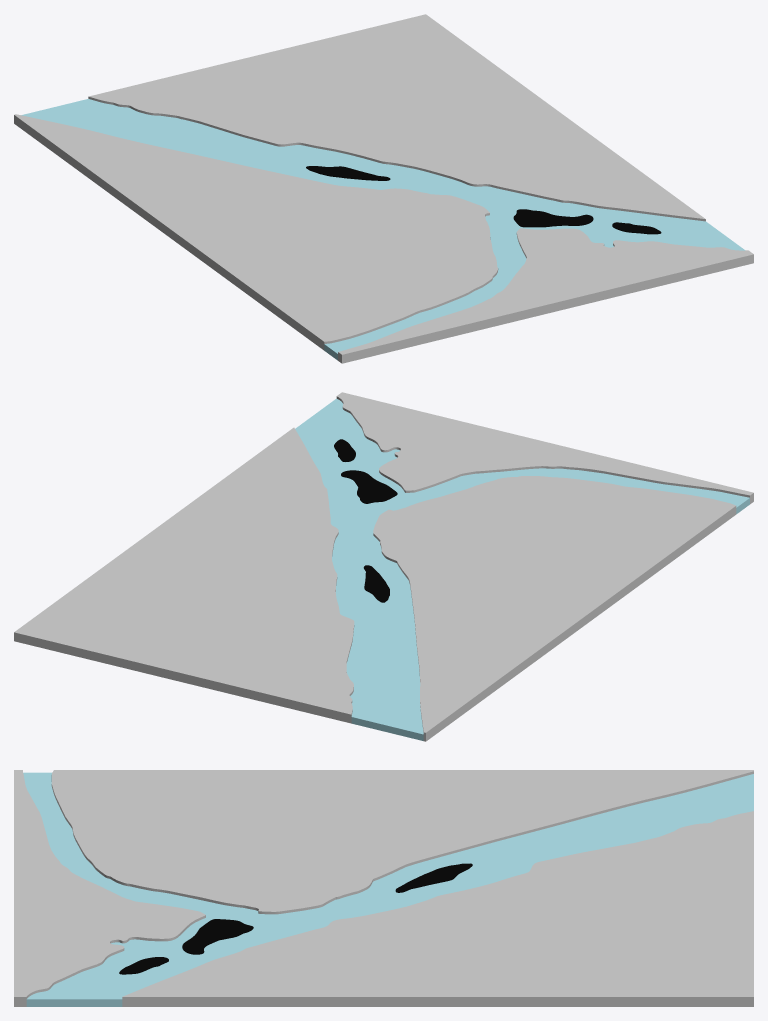
The model's file is river_uv.fbx.
3 renders of one model, top to bottom at view 1: azimuth 30°, elevation 25°; view 2: azimuth 150°, elevation 25°; view 3: azimuth 270°, elevation 25°, orthographic. The views are drawn at different scales.
Visible parts, largest first — view 1: land03, land01, water, land02, island02, island01; view 2: land03, land01, water, land02, island02, island01; view 3: land03, land01, water, land02, island02, island01, island03.
Part boxes in pixels (x1=…): land03: x1=88, y1=14, x2=705, y2=221; land01: x1=14, y1=114, x2=498, y2=350; water: x1=21, y1=99, x2=745, y2=360; land02: x1=338, y1=228, x2=753, y2=363; island02: x1=513, y1=209, x2=593, y2=227; island01: x1=306, y1=166, x2=390, y2=180; land03: x1=14, y1=427, x2=354, y2=723; land01: x1=373, y1=476, x2=736, y2=741; water: x1=295, y1=398, x2=749, y2=740; land02: x1=336, y1=392, x2=753, y2=504; island02: x1=341, y1=470, x2=397, y2=503; island01: x1=363, y1=565, x2=389, y2=602; land03: x1=122, y1=811, x2=753, y2=1006; land01: x1=51, y1=770, x2=753, y2=914; water: x1=23, y1=772, x2=753, y2=1006; land02: x1=14, y1=770, x2=205, y2=1006; island02: x1=182, y1=919, x2=253, y2=954; island01: x1=395, y1=863, x2=472, y2=892; island03: x1=119, y1=957, x2=168, y2=974.
Size of the model in its own units: 58000 by 1200 by 80000.
